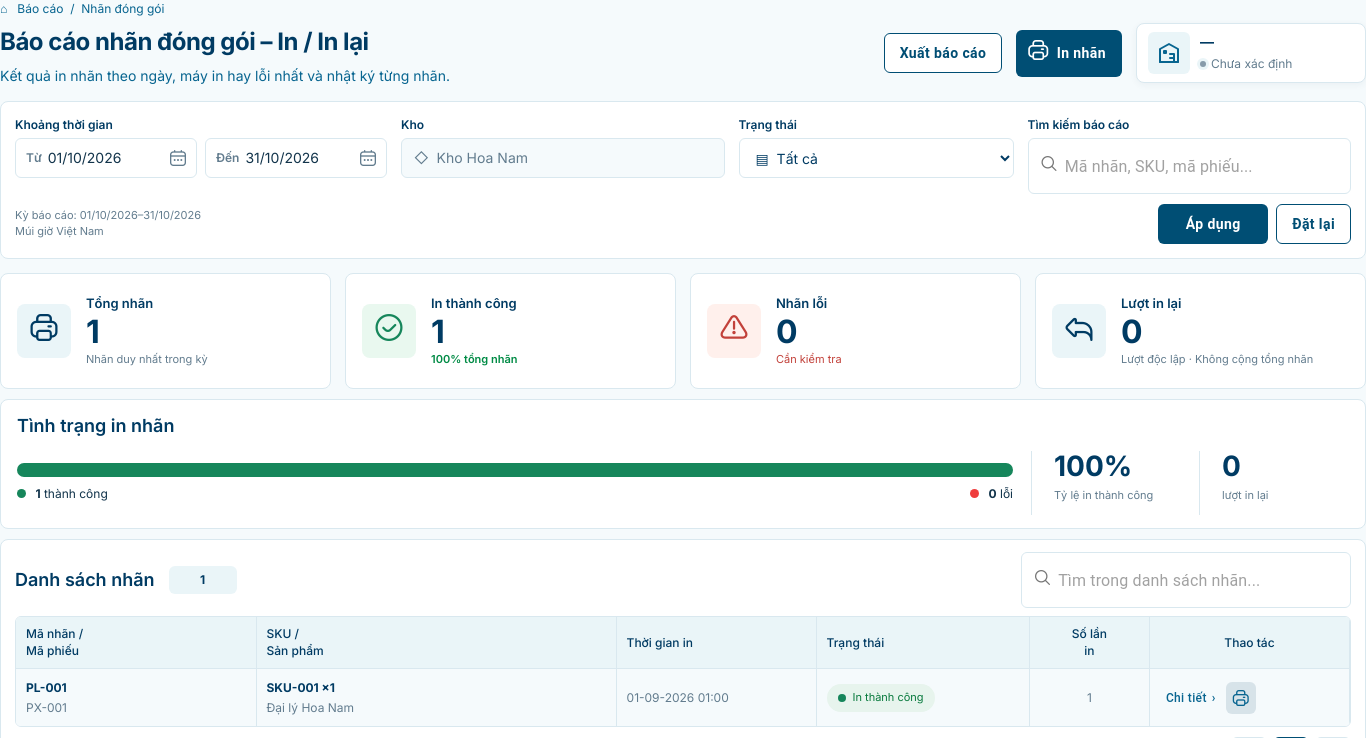
Test: packing-label reprint reason dialog › closes without sending or fetching anything when cancelled
The width and height of the screenshot is (1366, 738).
Click the button named "In lại": [1241, 698] box top-left (1226, 682), bottom-right (1256, 714)
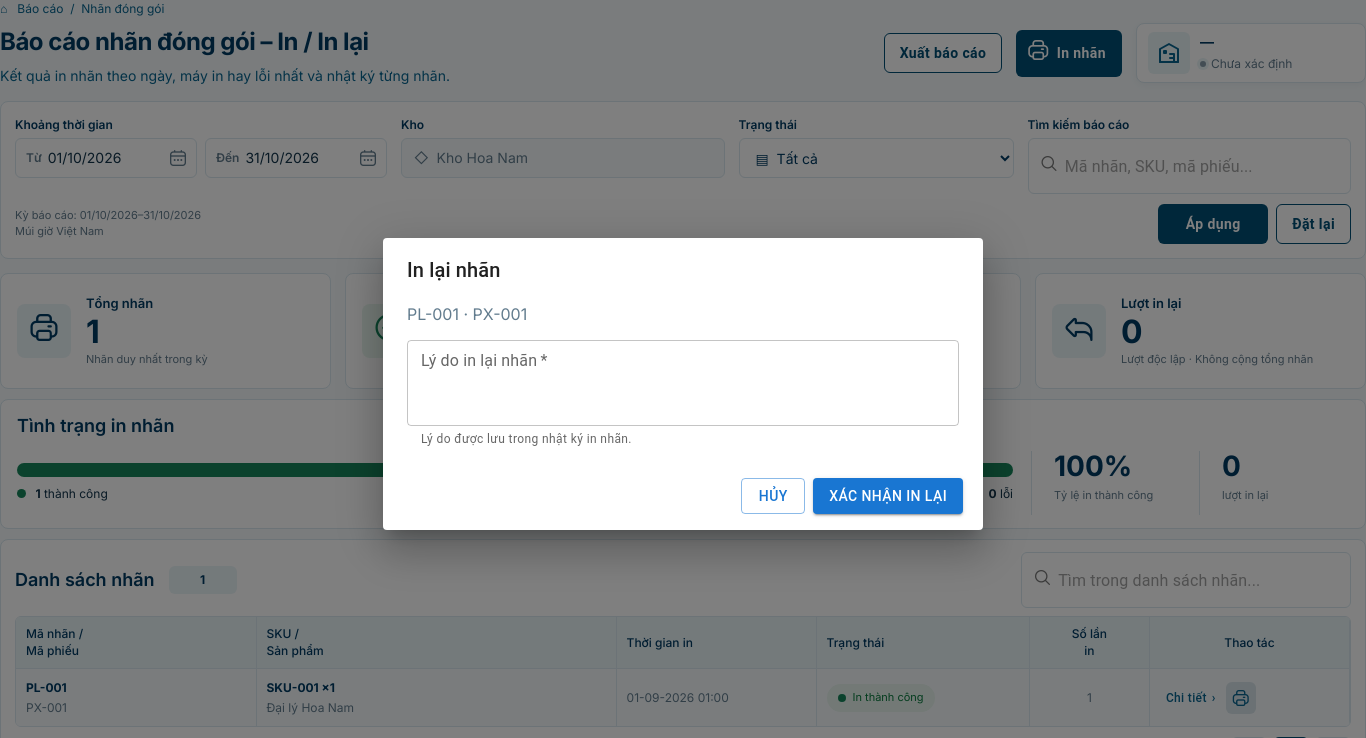
Click the button "Hủy": [773, 496] box top-left (741, 478), bottom-right (805, 514)
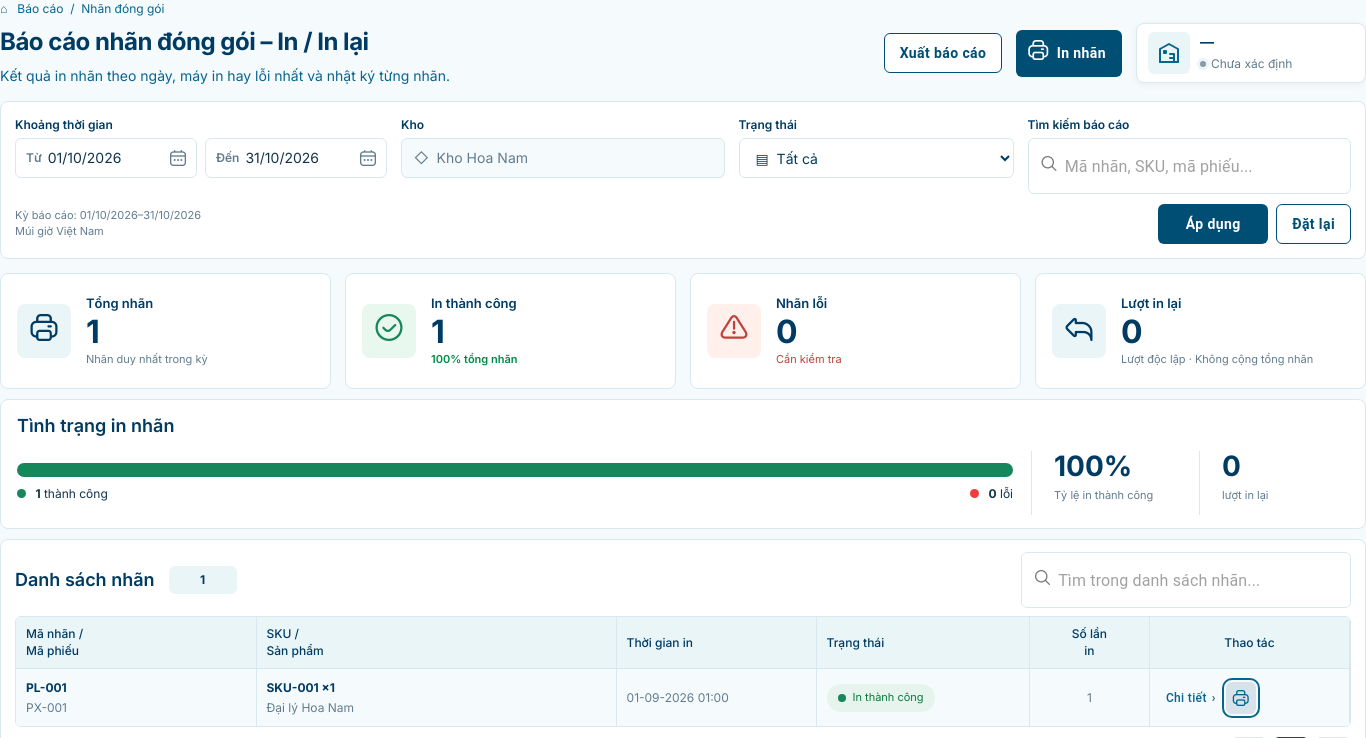
Expected: the dialog is gone
